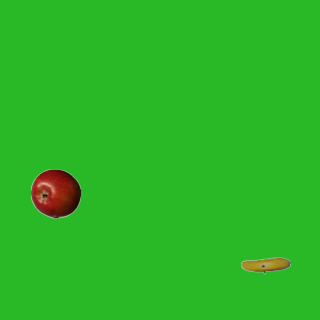Apple Braeburn: (30, 168, 80, 218)
Banana: (240, 240, 290, 290)
